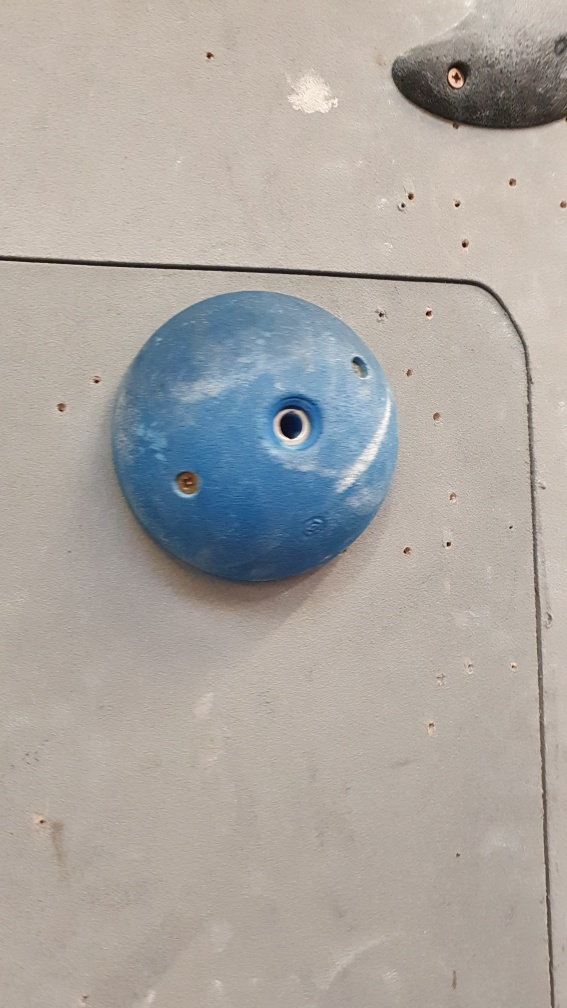Sloper: (106, 287, 404, 592)
